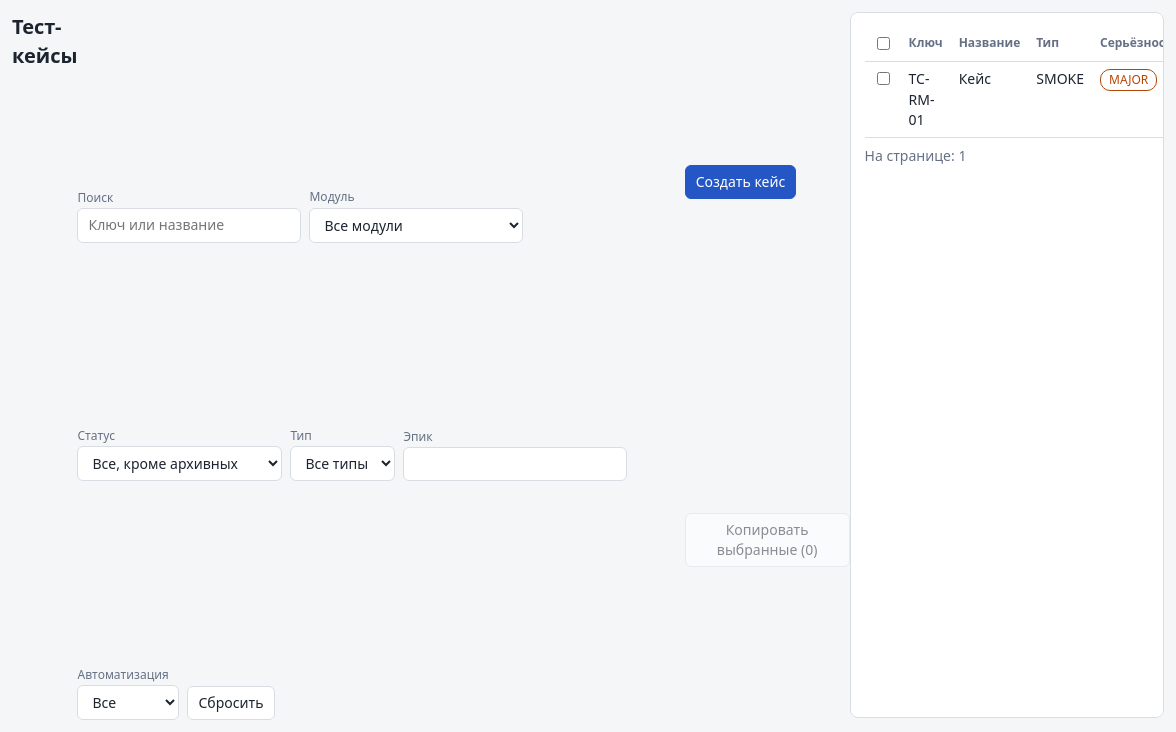
Scenario: список кейсов › массовое копирование отправляет выбранные и сообщает ключи
Step 1. Click the checkbox named "Выбрать c1" → [883, 79], box [877,72,890,85]
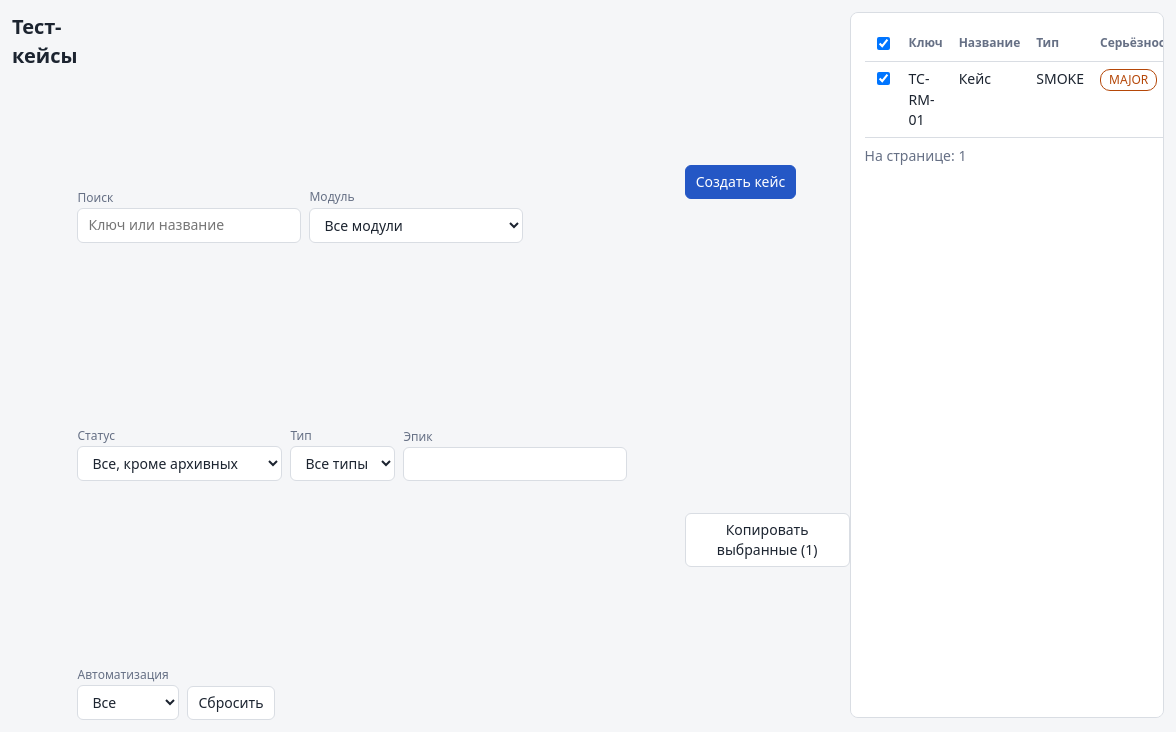
Step 2. Click the button "Копировать выбранные (1)" → [767, 540], box [685,513,850,567]
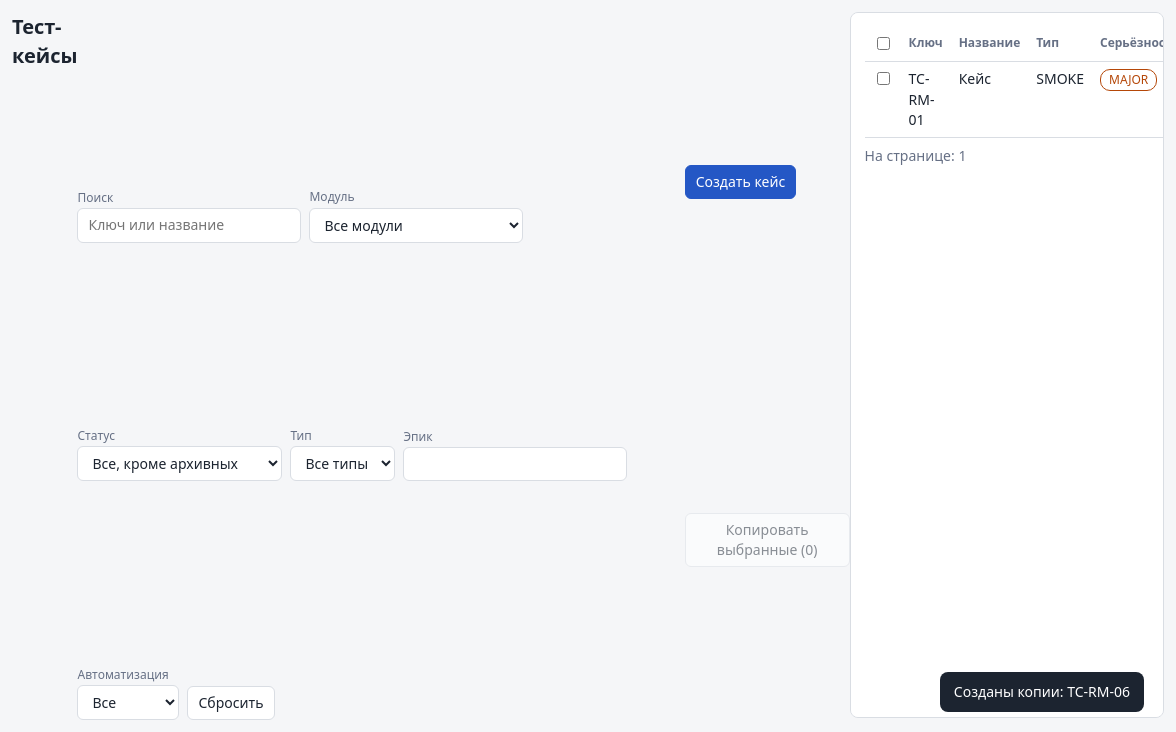
expect the text "Созданы копии: TC-RM-06" is shown: met, box [940,672,1144,712]
